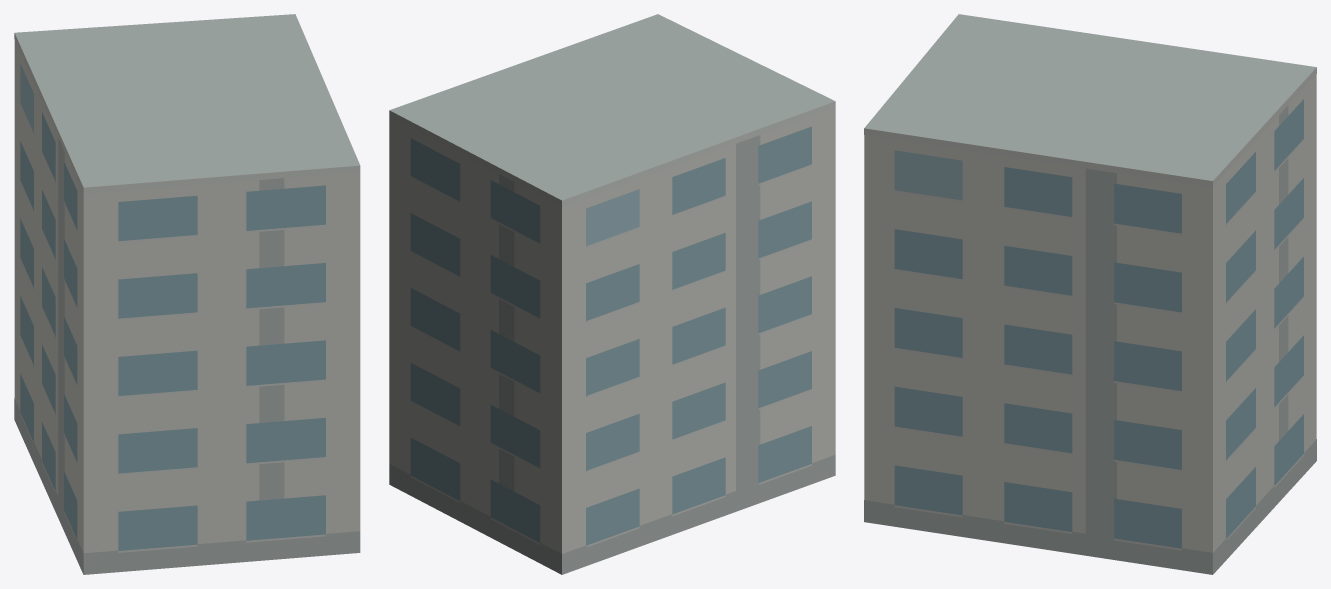
Rendered from survey-upis-32888500.glb.
3 renders of one model, left to right at view 1: azimuth 30°, elevation 25°; view 2: azimuth 150°, elevation 25°; view 3: azimuth 270°, elevation 25°, orthographic. The views are drawn at different scales.
Parts seen in each view (by area): view 1: survey-upis-32888500.tmp; view 2: survey-upis-32888500.tmp; view 3: survey-upis-32888500.tmp.
Part boxes in pixels (x1,y1,x2,y2): survey-upis-32888500.tmp: (14, 14, 360, 574); survey-upis-32888500.tmp: (389, 14, 835, 574); survey-upis-32888500.tmp: (864, 14, 1316, 574).
Bounding box in the file's own units: 13.21 × 14.5 × 15.12.
